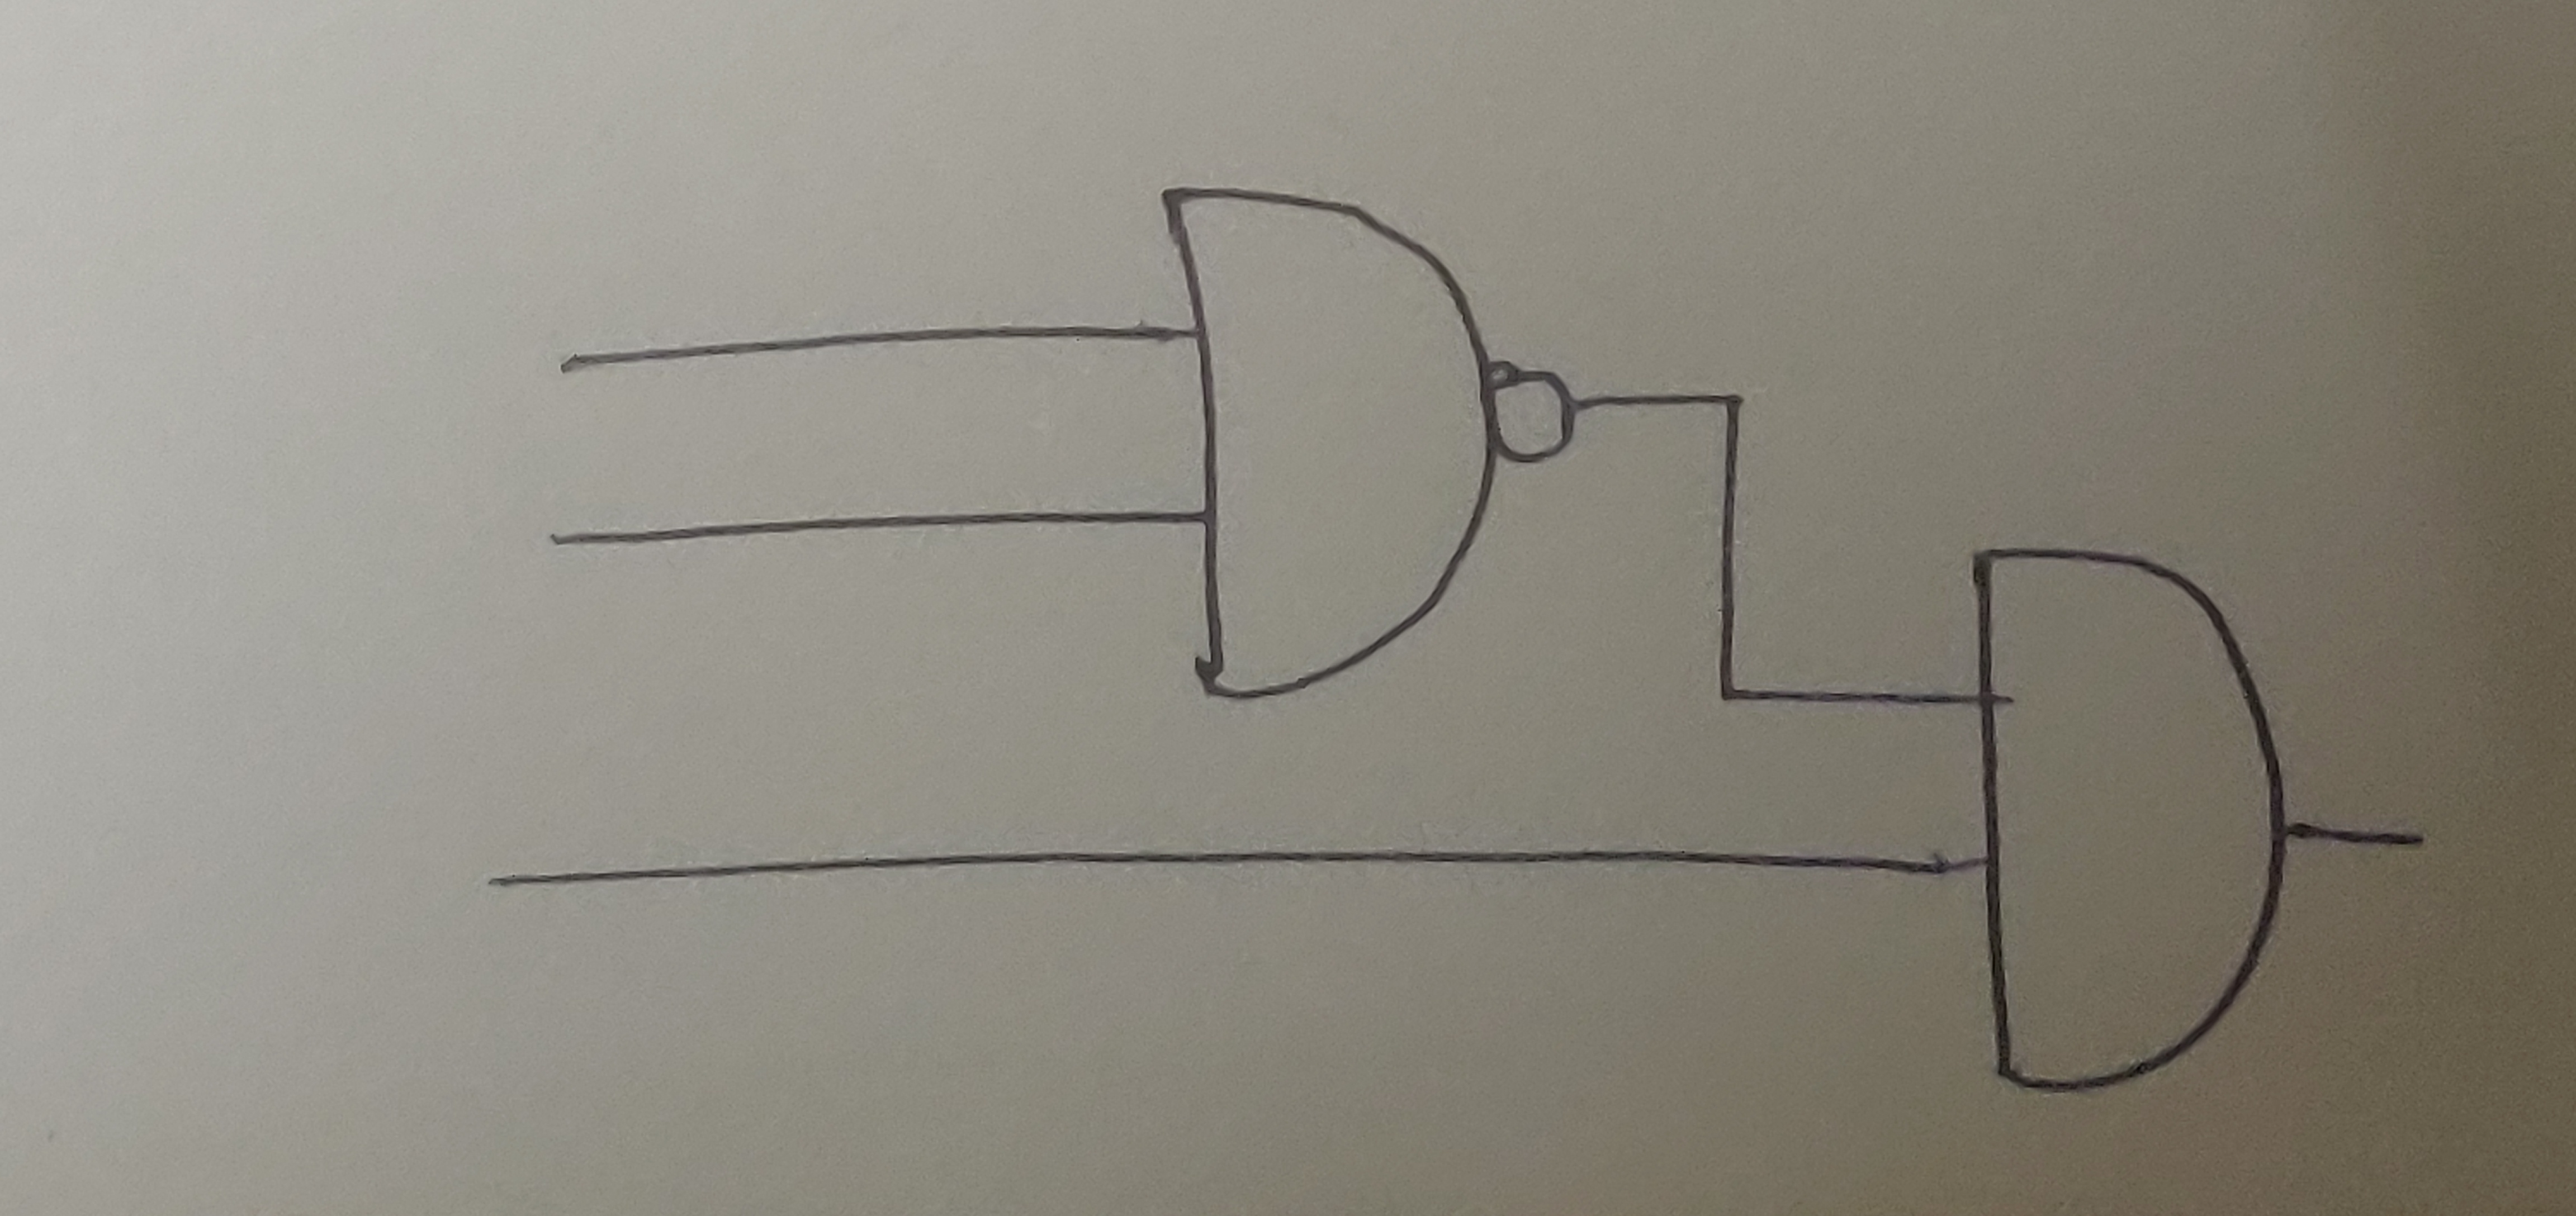and: (1157, 177, 1502, 710), (1965, 542, 2290, 1098)
not: (1482, 365, 1584, 473)
